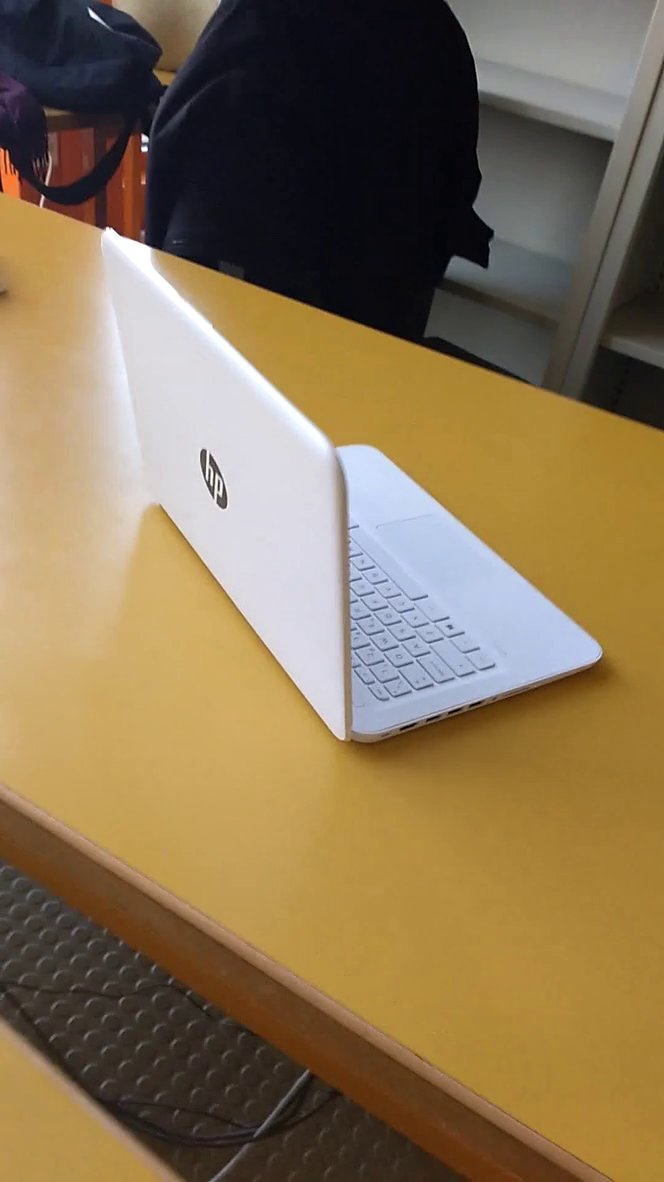chair: (158, 1, 504, 383)
laptop: (94, 214, 615, 759)
